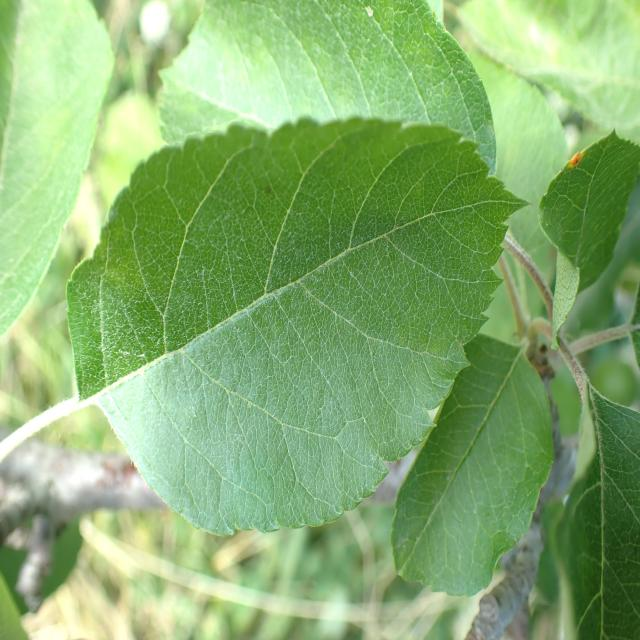healthy: (66, 115, 534, 537), (157, 0, 498, 183), (392, 333, 554, 598), (0, 0, 114, 337), (452, 0, 639, 143), (560, 383, 640, 640), (537, 128, 640, 289)
